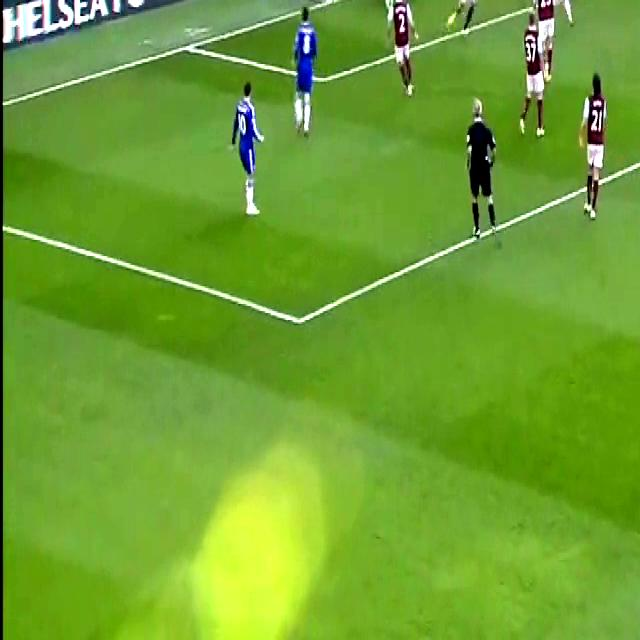goalkeeper: (377, 0, 417, 14)
referee: (461, 93, 509, 255)
soccer-player: (226, 73, 274, 219), (576, 59, 610, 233), (383, 0, 427, 107), (289, 4, 323, 138), (515, 16, 549, 148), (527, 0, 568, 71), (452, 0, 494, 48)
